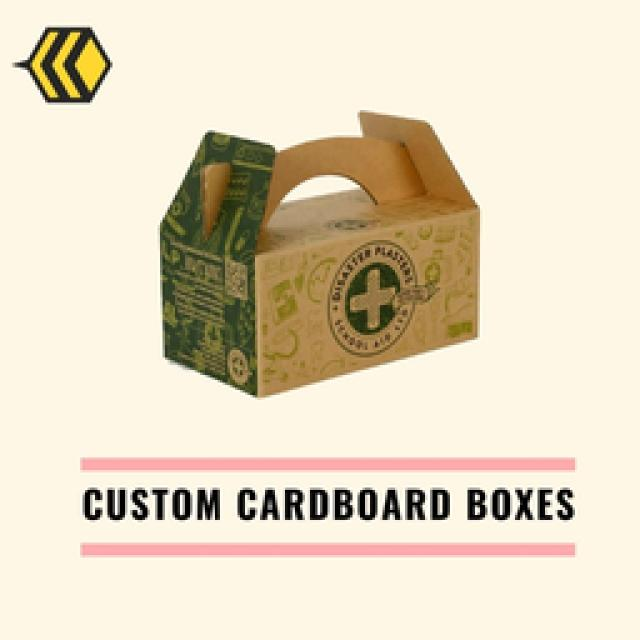cardboard: (160, 112, 475, 395)
